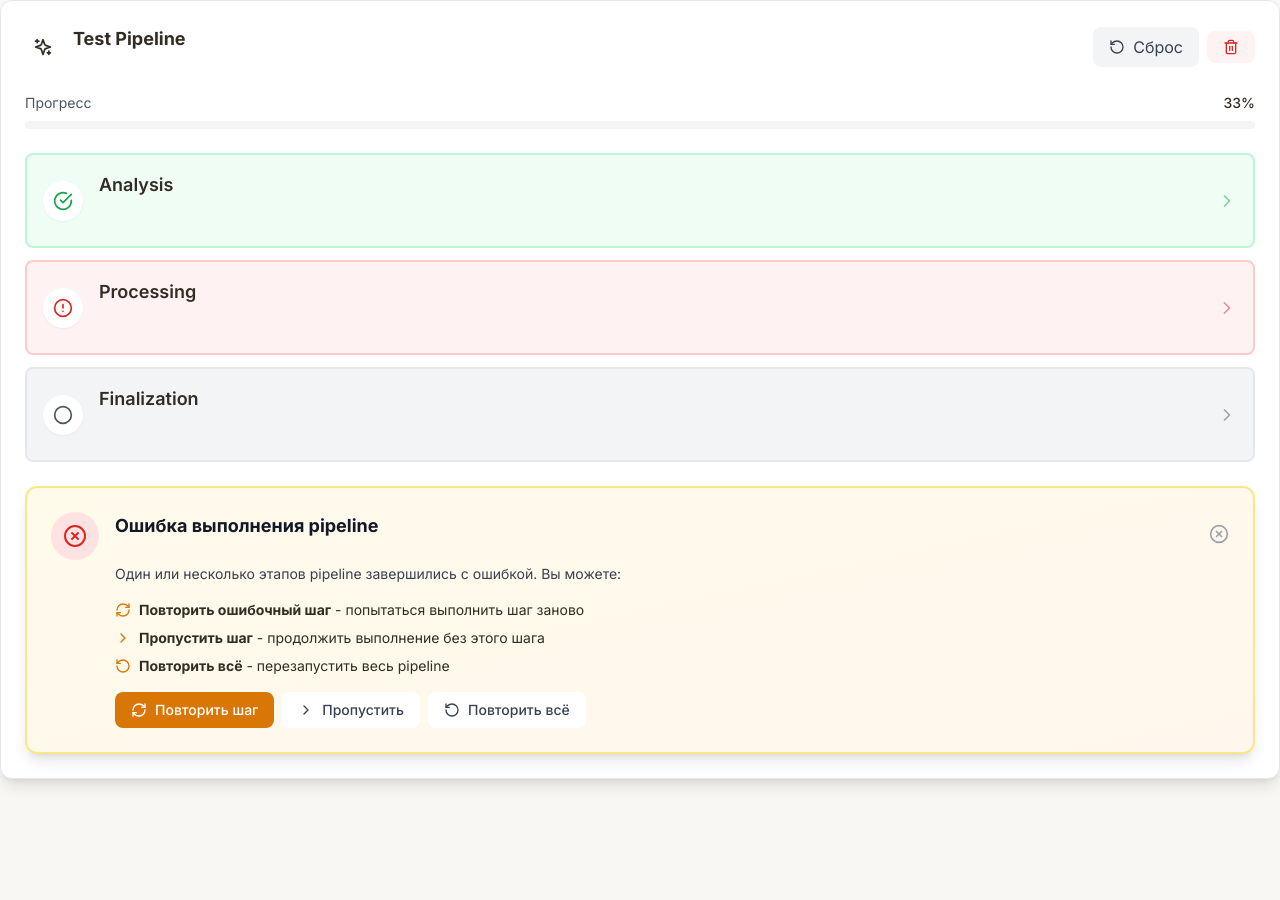
PipelineVisualizer Stress Tests - Error Recovery › Panel Dismissal › должен закрывать панель по кнопке закрытия
What coordinates should you click on to do the following:
click the button named "закрыть панель восстановления"
I would click on:
 (1219, 534)
Its box is 1209,524 -> 1229,544.
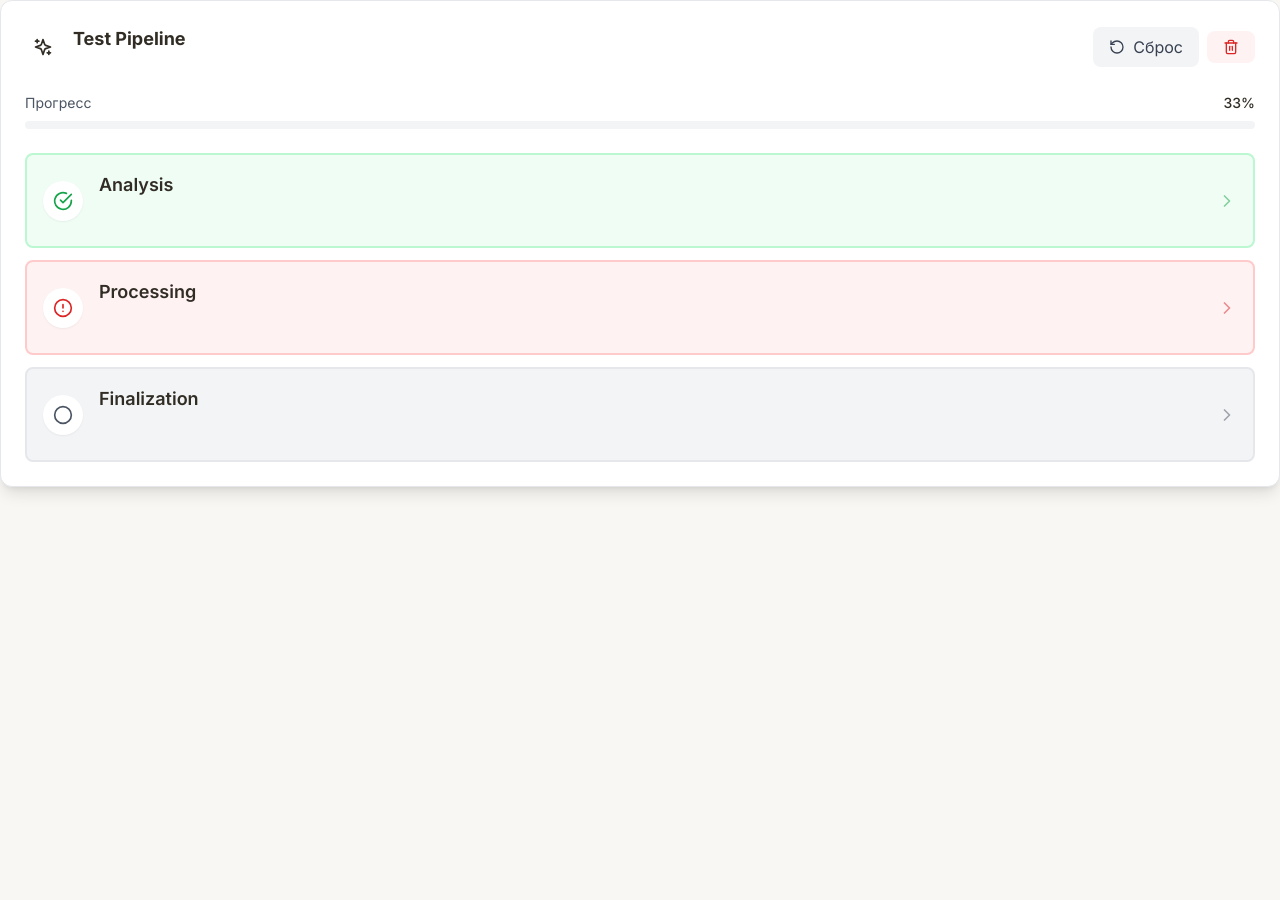
Expected: the heading "Ошибка выполнения pipeline" is gone
